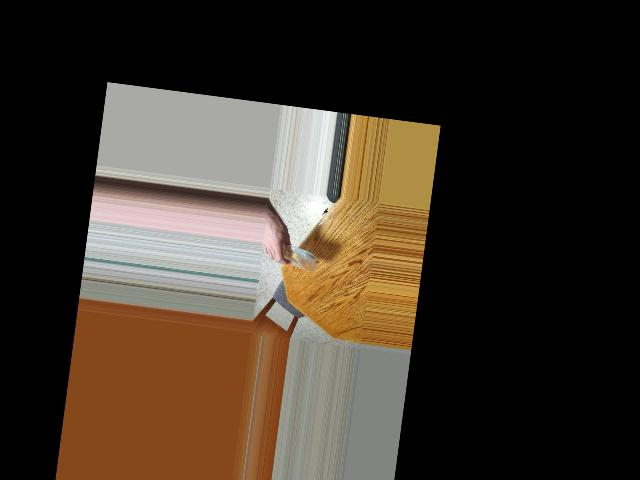cheese: (280, 237, 316, 272)
